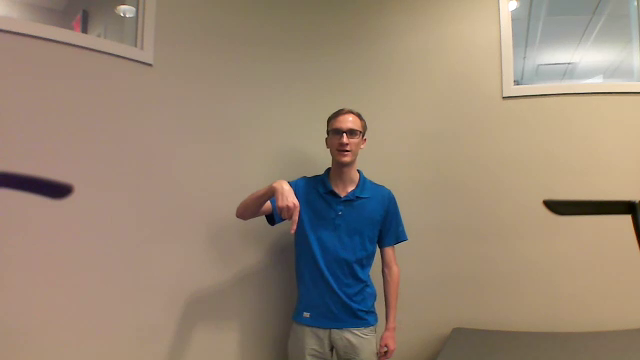down: (264, 172, 304, 242)
